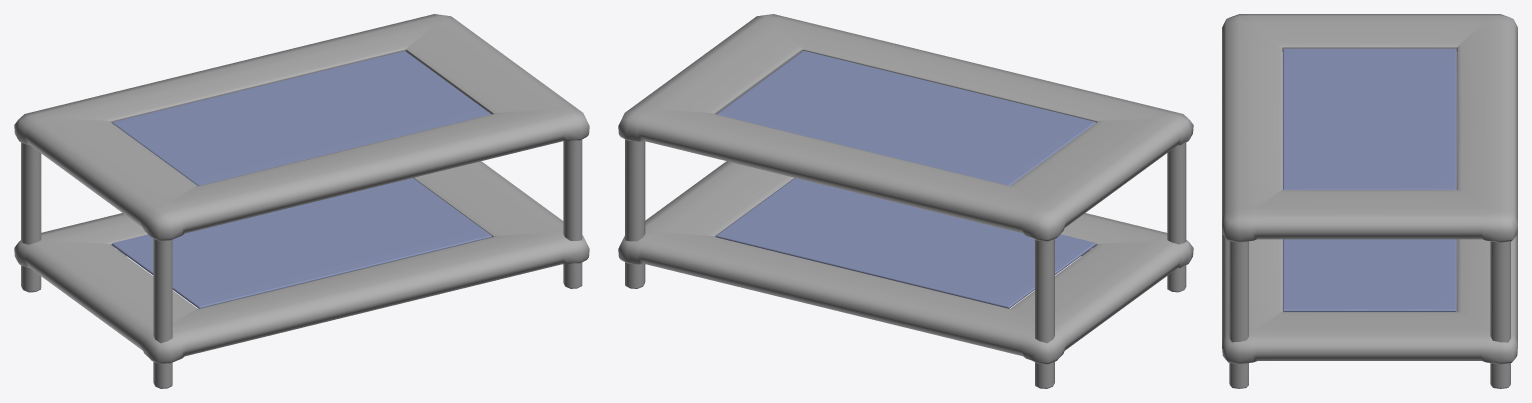
Rendered from Coffee_Table.fbx.
3 renders of one model, left to right at view 1: azimuth 30°, elevation 25°; view 2: azimuth 150°, elevation 25°; view 3: azimuth 270°, elevation 25°, orthographic.
Parts seen in each view (by area): view 1: pCube25; view 2: pCube25; view 3: pCube25.
Boxes of the visible parts, left/top/right/bottom form: pCube25: left=14, top=14, right=589, bottom=388; pCube25: left=618, top=14, right=1193, bottom=388; pCube25: left=1222, top=14, right=1517, bottom=388.
Bounding box in the file's own units: 15.36 × 5.8 × 9.08.
